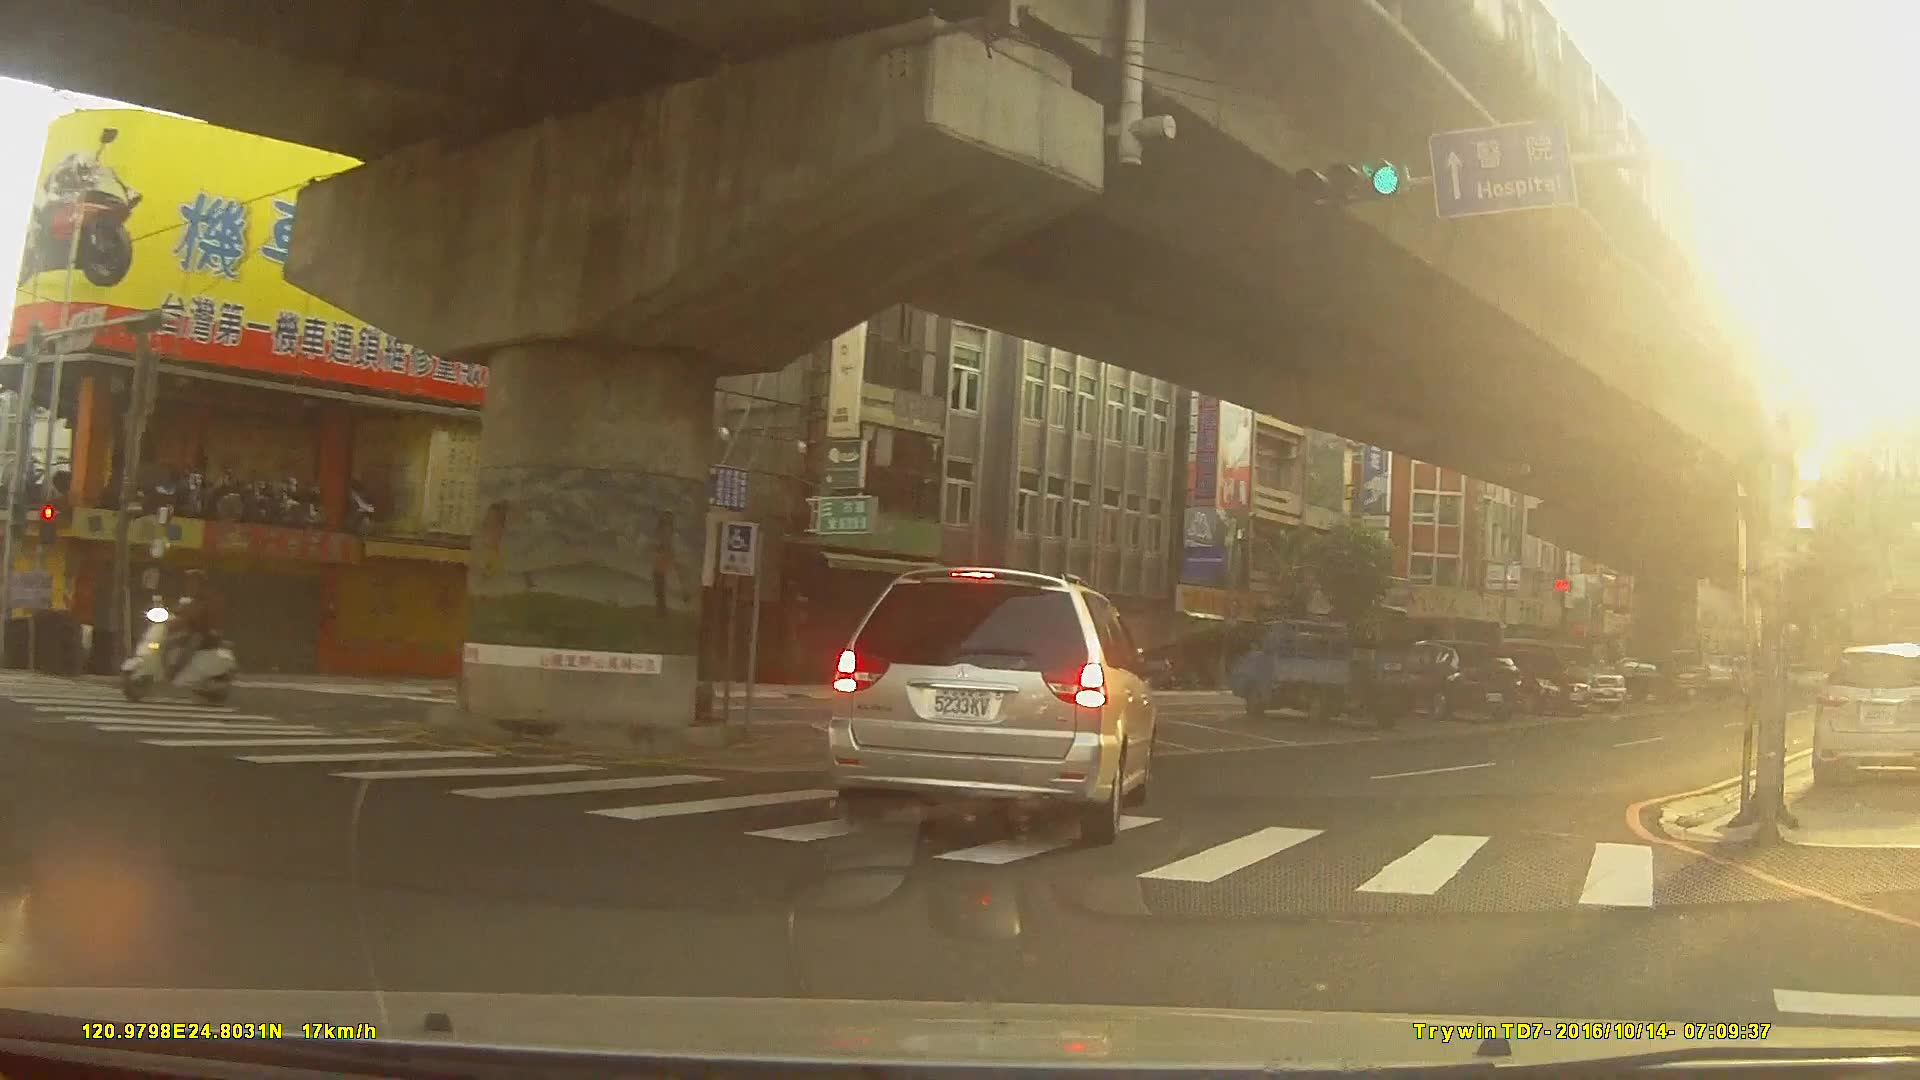rider: (121, 567, 242, 706)
vehicle: (823, 563, 1158, 845), (1224, 615, 1434, 727), (1812, 639, 1920, 786), (1387, 634, 1525, 718), (1468, 647, 1595, 717), (1591, 656, 1676, 701)
